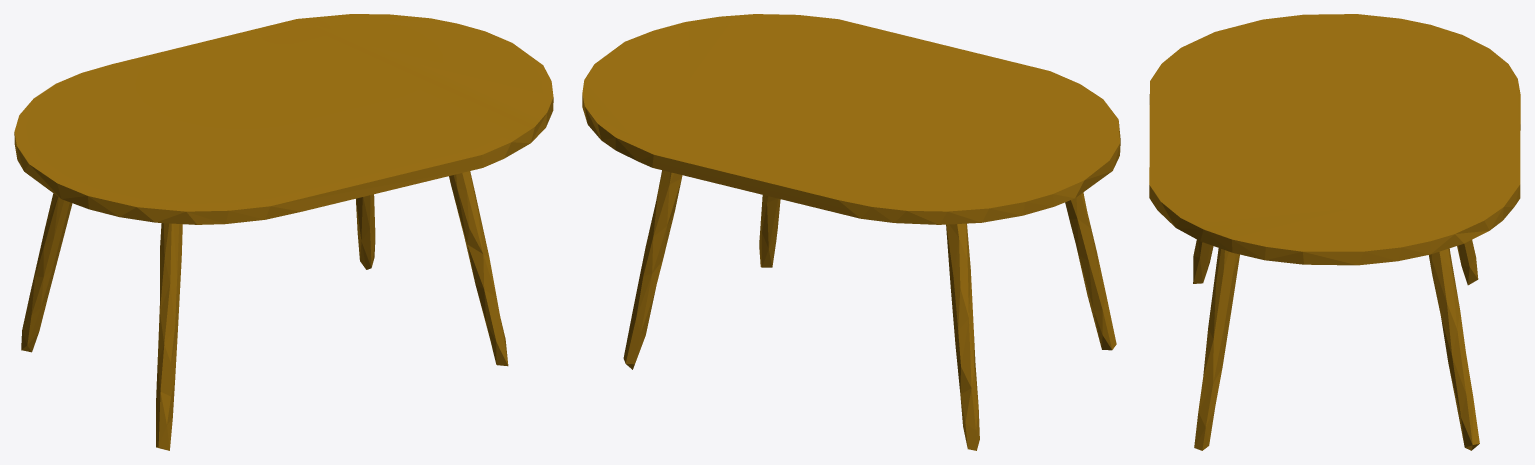
Rendered from tisch.glb.
The picture shows the model from 3 angles, left to right: view 1: azimuth 30°, elevation 25°; view 2: azimuth 150°, elevation 25°; view 3: azimuth 270°, elevation 25°; orthographic projection.
Visible parts, largest first — view 1: 282337_23_05_24_18_01_18_2, 282337_23_05_24_18_01_18_1; view 2: 282337_23_05_24_18_01_18_2, 282337_23_05_24_18_01_18_1; view 3: 282337_23_05_24_18_01_18_2, 282337_23_05_24_18_01_18_1.
Part boxes in pixels (x1,y1,x2,y2): 282337_23_05_24_18_01_18_2: (14, 14, 553, 224); 282337_23_05_24_18_01_18_1: (21, 171, 508, 450); 282337_23_05_24_18_01_18_2: (582, 14, 1120, 224); 282337_23_05_24_18_01_18_1: (623, 170, 1116, 450); 282337_23_05_24_18_01_18_2: (1149, 14, 1520, 265); 282337_23_05_24_18_01_18_1: (1193, 239, 1479, 450).
Bounding box in the file's own units: 14.07 × 6.74 × 9.27.
2 materials, 2 textured.
